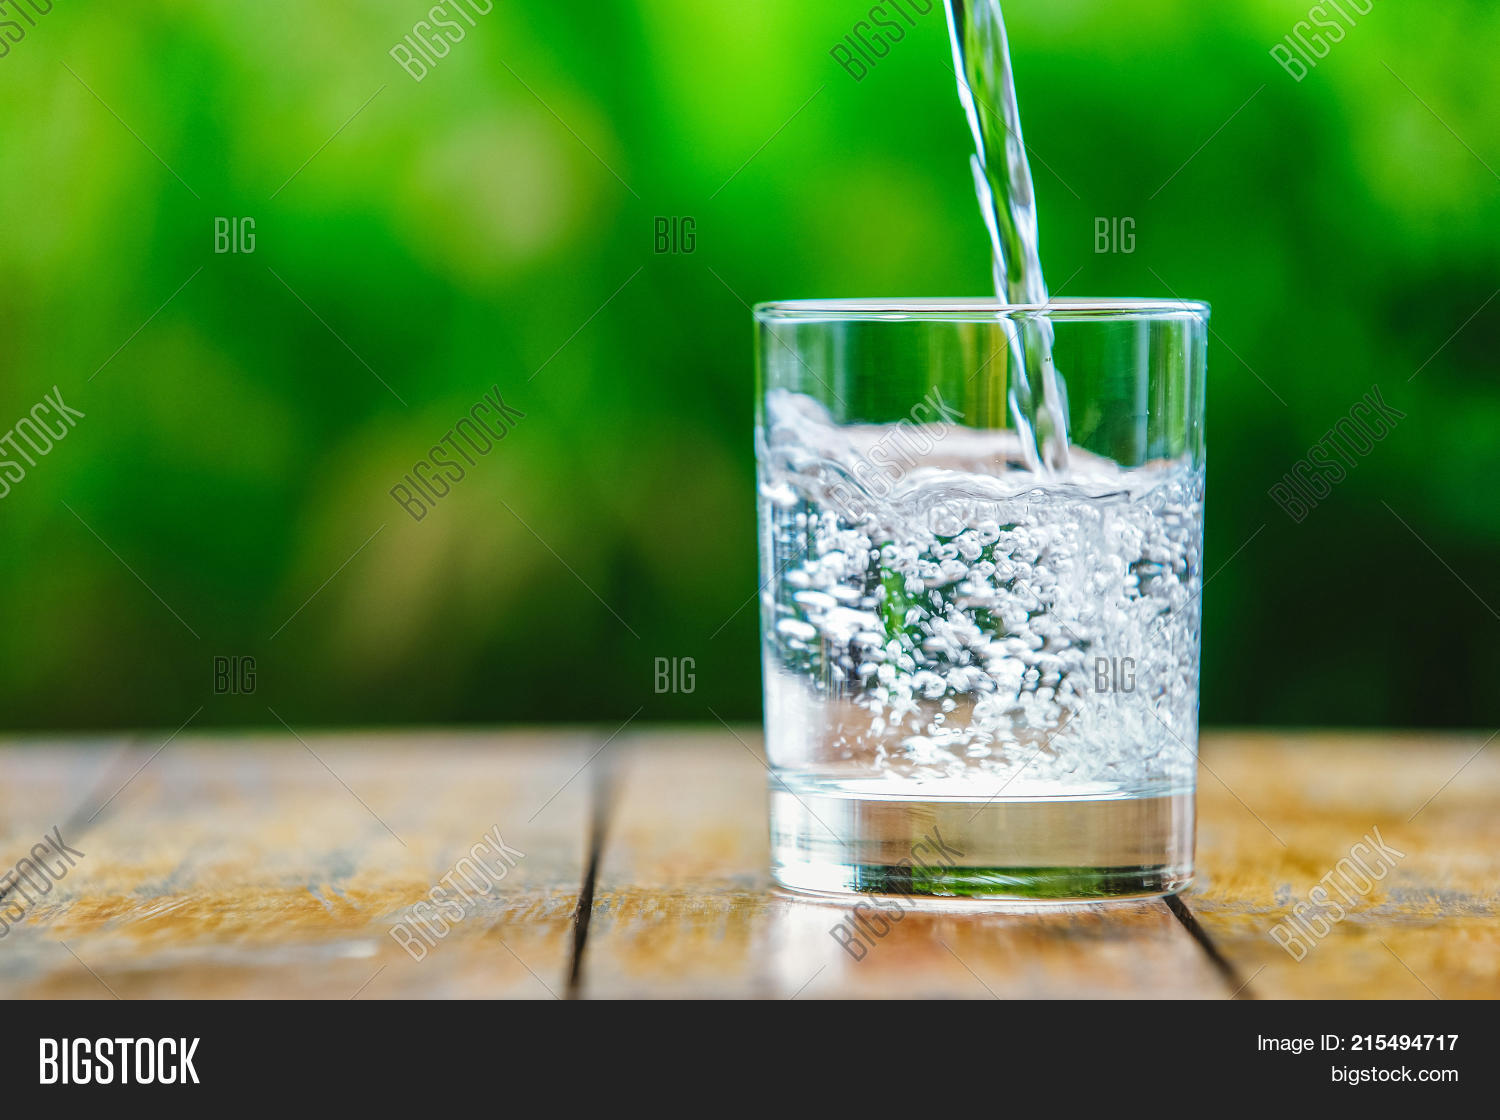glass of water: (753, 279, 1214, 911)
